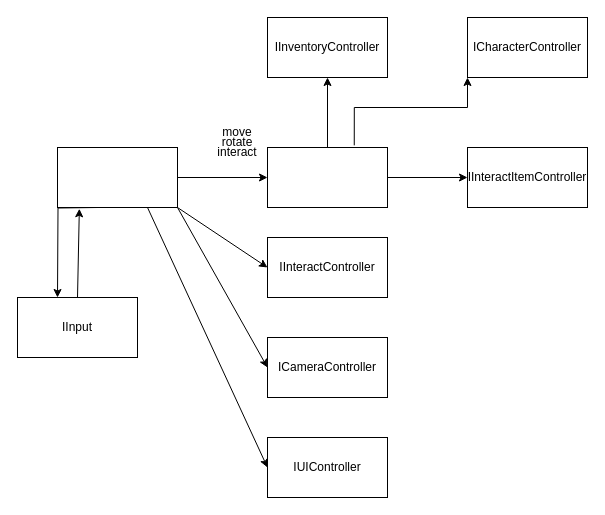
This 605x515 diagram has some shape labels left out. Here are the shapes that lost their labels. From the top down, the centre of each, then its label:
the point at 117,177: IPlayerController
the point at 327,177: IActorController
